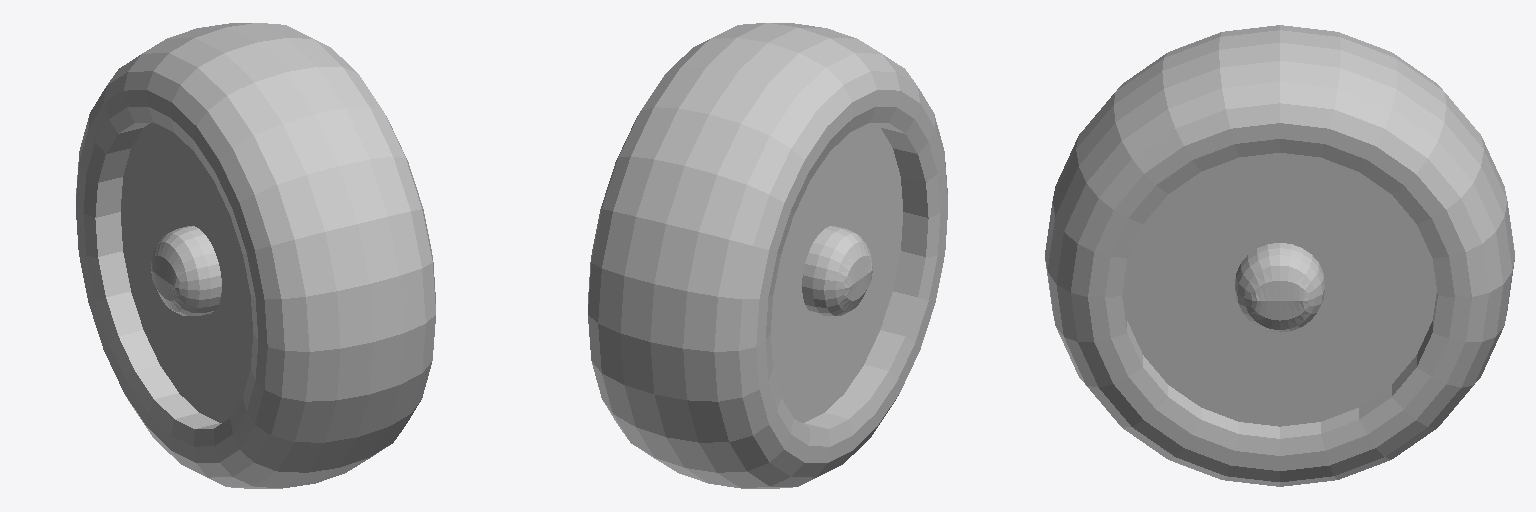
The model's file is wheels.obj.
3 renders of one model, left to right at view 1: azimuth 30°, elevation 25°; view 2: azimuth 150°, elevation 25°; view 3: azimuth 270°, elevation 25°, orthographic.
Visible parts, largest first — view 1: 4Wheels_Cylinder.001; view 2: 4Wheels_Cylinder.001; view 3: 4Wheels_Cylinder.001.
Boxes of the visible parts, x1,y1,x2,y2 form: 4Wheels_Cylinder.001: [76, 23, 435, 488]; 4Wheels_Cylinder.001: [588, 23, 947, 488]; 4Wheels_Cylinder.001: [1045, 25, 1514, 486].
Bounding box in the file's own units: 0.9574 × 2.09 × 2.09.